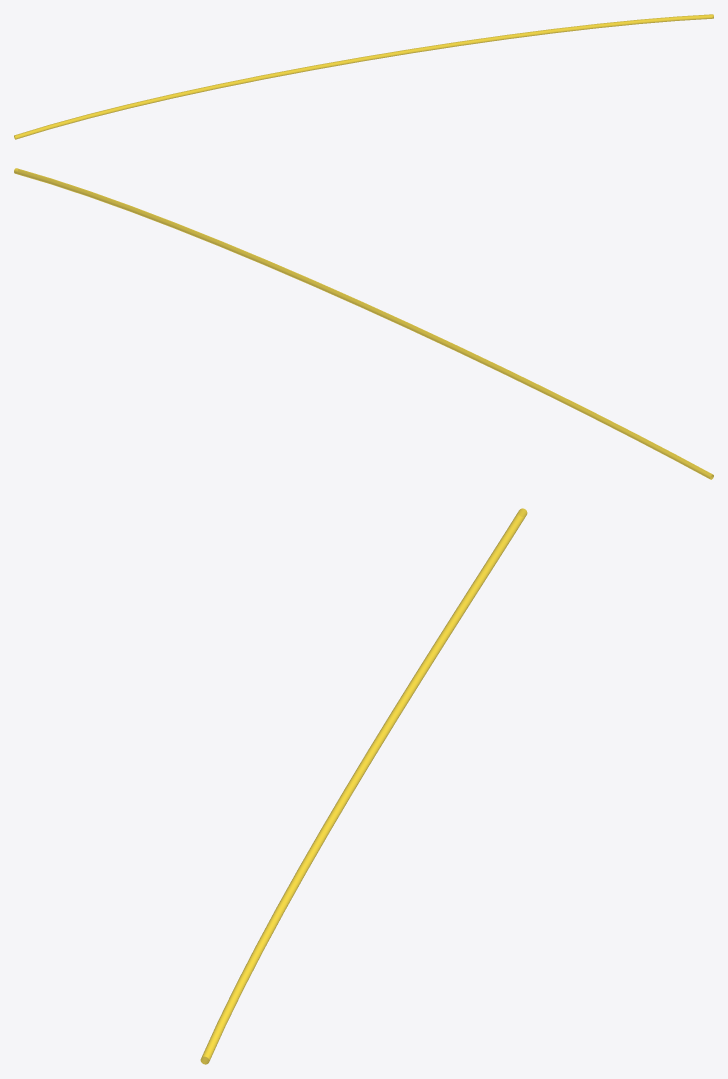
File: Event_419990632_track_26.fbx
3 views of the same model, one above another, from view 1: azimuth 30°, elevation 25°; view 2: azimuth 150°, elevation 25°; view 3: azimuth 270°, elevation 25° (orthographic). The views are drawn at different scales.
Parts seen in each view (by area): view 1: Model; view 2: Model; view 3: Model.
Part boxes in pixels (left/top/right/bottom): Model: left=14, top=14, right=713, bottom=139; Model: left=14, top=168, right=713, bottom=479; Model: left=200, top=508, right=527, bottom=1064.
Size of the model in its own units: 6.34 by 0.3748 by 1.45.
